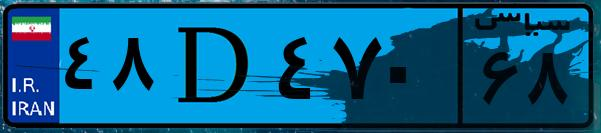0: (385, 28, 445, 110)
4: (270, 28, 330, 110), (57, 26, 110, 100)
6: (475, 38, 525, 113)
7: (330, 28, 385, 110)
8: (525, 38, 570, 115), (110, 28, 158, 98)
D: (158, 12, 270, 120)
